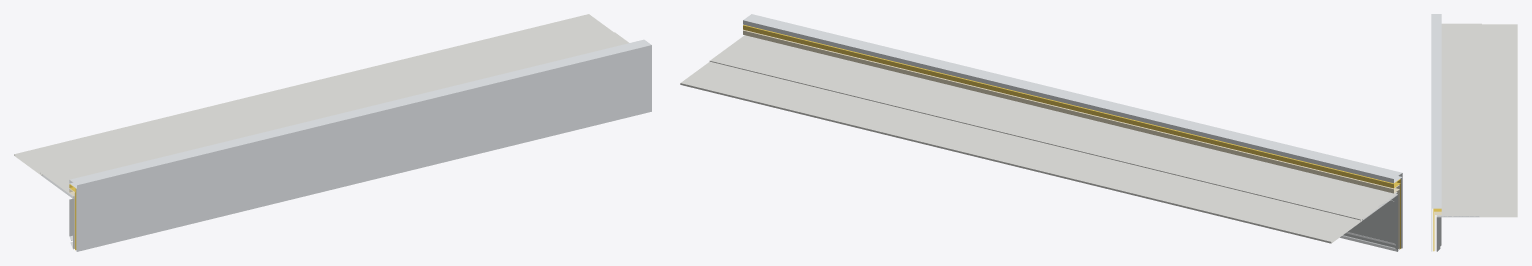
Rendered from perimeter-edge-metal-F-1-TYP.glb.
3 renders of one model, left to right at view 1: azimuth 30°, elevation 25°; view 2: azimuth 150°, elevation 25°; view 3: azimuth 270°, elevation 25°, orthographic. The views are drawn at different scales.
Parts seen in each view (by area): view 1: topcoat__topcoat_face, existing__ply_field, existing__ply_flange, topcoat__topcoat_top; view 2: existing__ply_flange, existing__ply_field, topcoat__topcoat_top, flex__flex_top, primer__primer_top, existing__cleat, existing__fascia; view 3: existing__ply_flange, existing__ply_field, topcoat__topcoat_top, existing__hem, existing__cleat_kick, existing__flange, topcoat__topcoat_face, flex__flex_face, primer__primer_face.
Part boxes in pixels (x1,y1,x2,y2): topcoat__topcoat_face: (76,49,651,251); existing__ply_field: (14,14,613,175); existing__ply_flange: (40,32,628,197); topcoat__topcoat_top: (69,39,651,188); existing__ply_flange: (709,35,1397,221); existing__ply_field: (680,61,1362,243); topcoat__topcoat_top: (743,14,1402,183); flex__flex_top: (743,25,1400,188); primer__primer_top: (743,30,1399,193); existing__cleat: (1348,200,1394,242); existing__fascia: (1343,195,1398,251); existing__ply_flange: (1437,23,1481,216); existing__ply_field: (1480,24,1517,217); topcoat__topcoat_top: (1431,14,1441,208); existing__hem: (1436,217,1440,251); existing__cleat_kick: (1439,217,1441,246); existing__flange: (1436,215,1479,217); topcoat__topcoat_face: (1431,206,1432,251); flex__flex_face: (1433,210,1434,251); primer__primer_face: (1434,214,1435,250).
Bounding box in the file's own units: 1.22 × 0.1357 × 0.2311.
